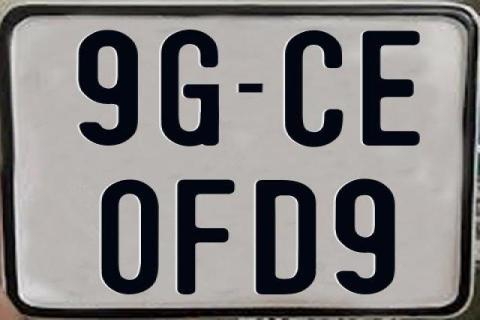0: (335, 177, 396, 295), (100, 177, 161, 292), (78, 30, 138, 146)
C: (282, 28, 340, 150)
D: (254, 180, 320, 299)
E: (359, 29, 419, 145)
F: (174, 178, 236, 296)
G: (160, 29, 219, 151)
